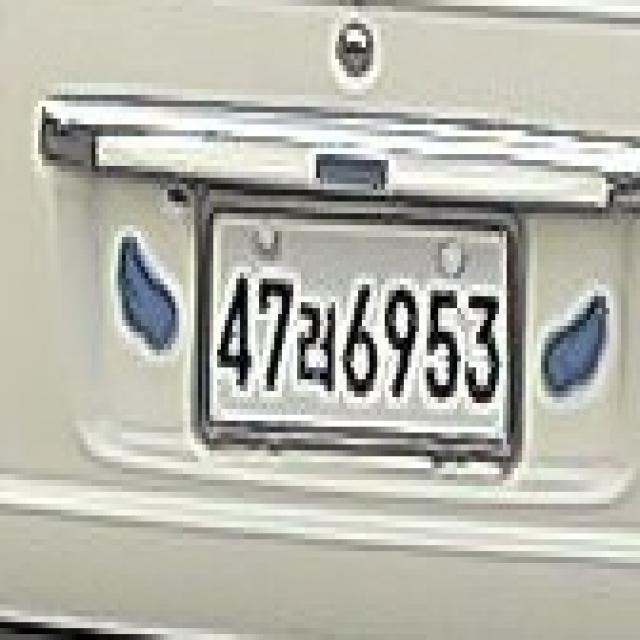3: (466, 281, 504, 411)
4: (210, 263, 258, 404)
5: (426, 280, 462, 410)
6: (349, 276, 384, 405)
7: (260, 268, 296, 402)
9: (388, 280, 422, 410)
leo: (300, 288, 340, 410)
license_plate: (181, 169, 538, 494)
